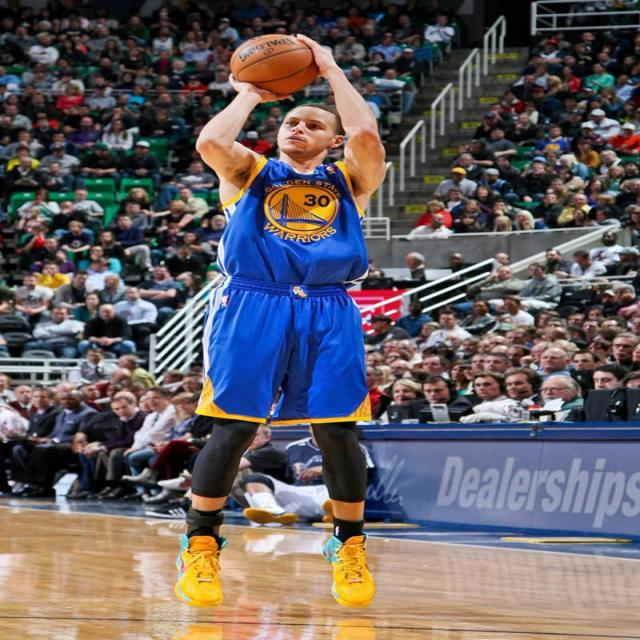Basketball: (230, 34, 319, 95)
